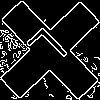L: (25, 25, 77, 78)
